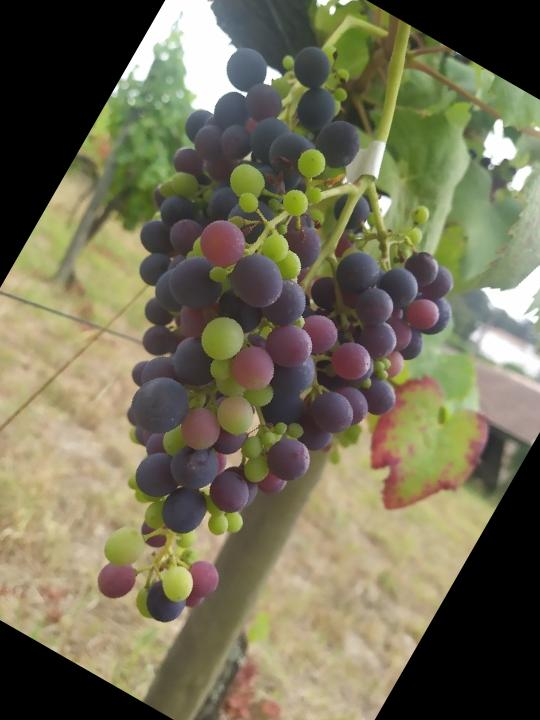grape: (0, 0, 540, 680)
